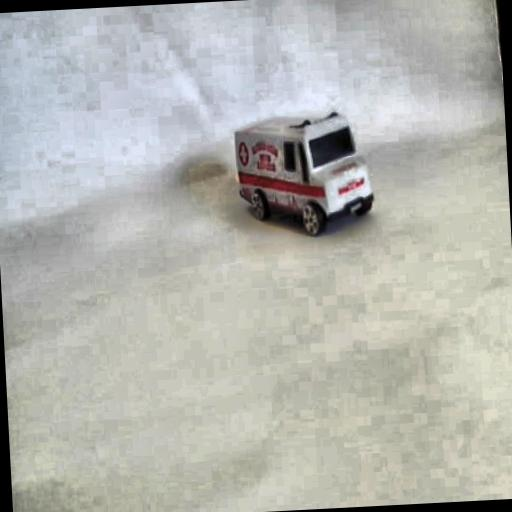ambulance: (232, 108, 375, 239)
